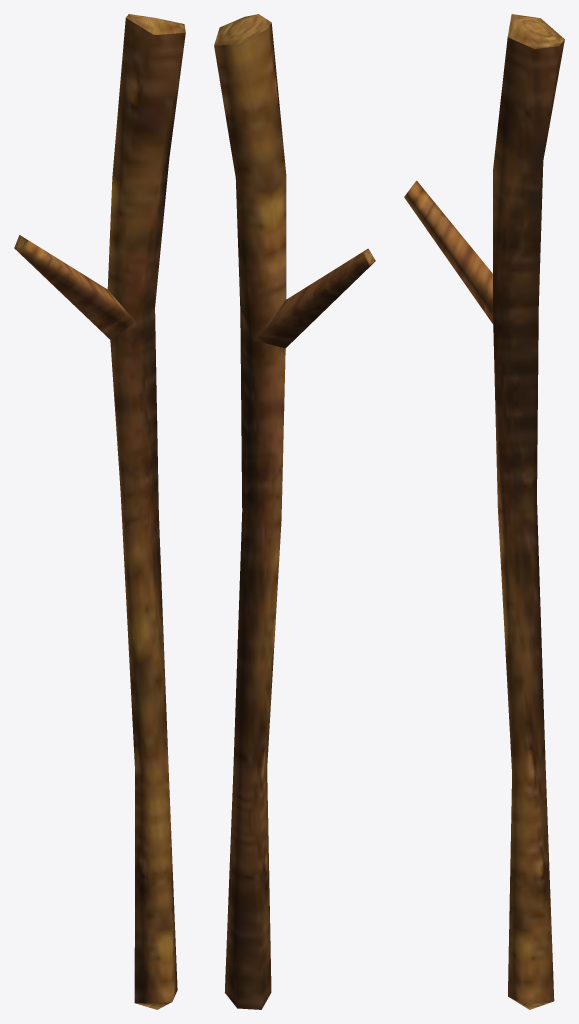
Rendered from lc_stick_model (No Texture Mirroring).obj.
3 renders of one model, left to right at view 1: azimuth 30°, elevation 25°; view 2: azimuth 150°, elevation 25°; view 3: azimuth 330°, elevation 25°, orthographic.
Visible parts, largest first — view 1: nodes_2__meshes[0]; view 2: nodes_2__meshes[0]; view 3: nodes_2__meshes[0].
Part boxes in pixels (bbox=[...]): nodes_2__meshes[0]: bbox=[14, 14, 185, 1009]; nodes_2__meshes[0]: bbox=[214, 14, 375, 1009]; nodes_2__meshes[0]: bbox=[404, 14, 564, 1009].
Bounding box in the file's own units: 948 × 5630 × 324.
